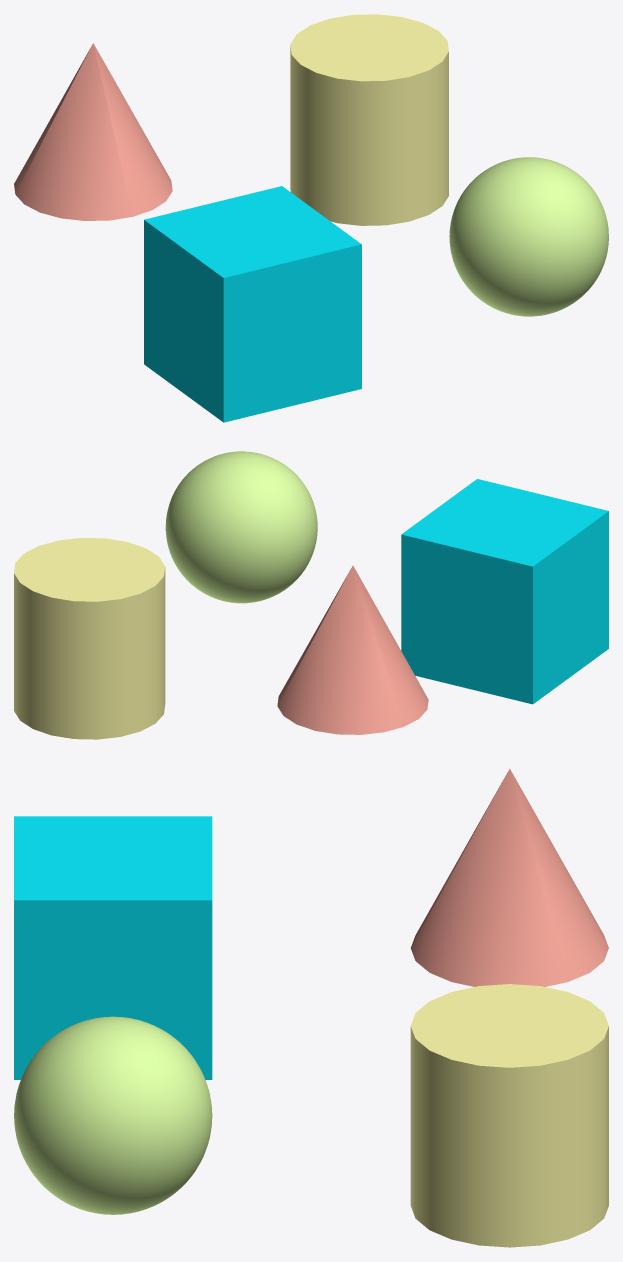
3 renders of one model, top to bottom at view 1: azimuth 30°, elevation 25°; view 2: azimuth 150°, elevation 25°; view 3: azimuth 270°, elevation 25°, orthographic. The views are drawn at different scales.
Visible parts, largest first — view 1: obj1, obj2; view 2: obj1, obj2; view 3: obj2, obj1.
Part boxes in pixels (x1,y1,x2,y2): obj1: (14,43,361,422); obj2: (290,14,608,316); obj1: (277,479,608,734); obj2: (14,451,317,739); obj2: (14,984,608,1247); obj1: (14,768,608,1079).
Size of the model in its own units: 600 by 300 by 600.
